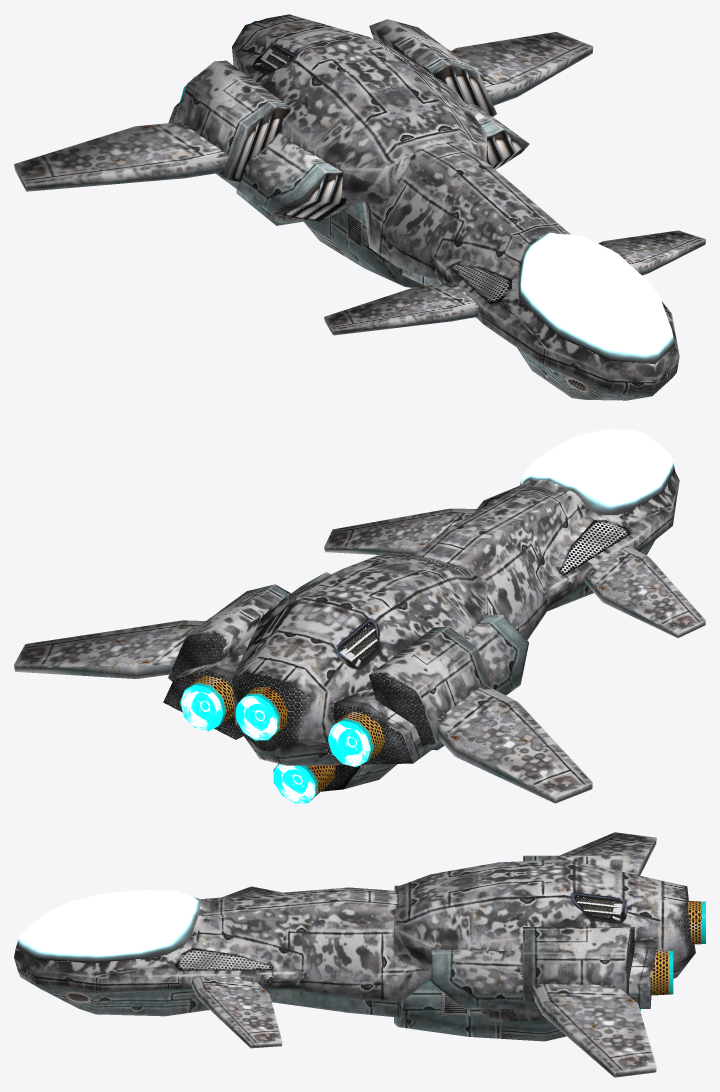
3 views of the same model, one above another, from view 1: azimuth 30°, elevation 25°; view 2: azimuth 150°, elevation 25°; view 3: azimuth 270°, elevation 25° (orthographic). The views are drawn at different scales.
Parts seen in each view (by area): view 1: Spaceship8; view 2: Spaceship8; view 3: Spaceship8.
Part boxes in pixels (x1,y1,x2,y2): Spaceship8: [14, 14, 705, 400]; Spaceship8: [14, 429, 705, 803]; Spaceship8: [14, 832, 705, 1077].
Size of the model in its own units: 223 by 72.49 by 272.
1 material, 1 textured.
